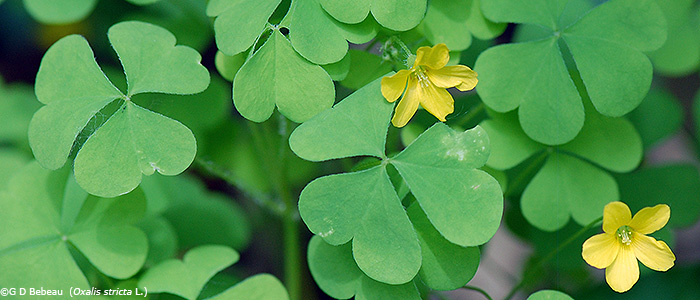clover: (290, 72, 507, 284), (29, 18, 211, 196)
yellow wood sorrrel: (579, 200, 677, 293), (379, 43, 480, 129)
